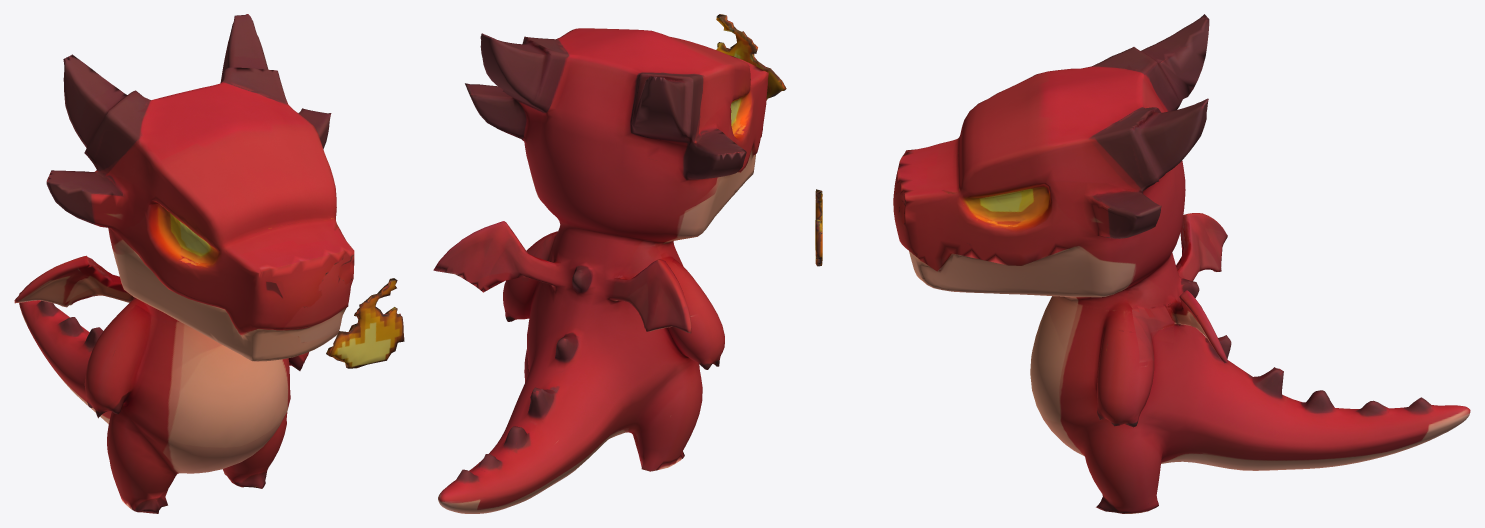
Rendered from boss_dragon.glb.
3 renders of one model, left to right at view 1: azimuth 30°, elevation 25°; view 2: azimuth 150°, elevation 25°; view 3: azimuth 270°, elevation 25°, orthographic.
Size of the model in its own units: 0.9553 by 1.36 by 1.91.
Materials: 1 (1 with a texture image).
